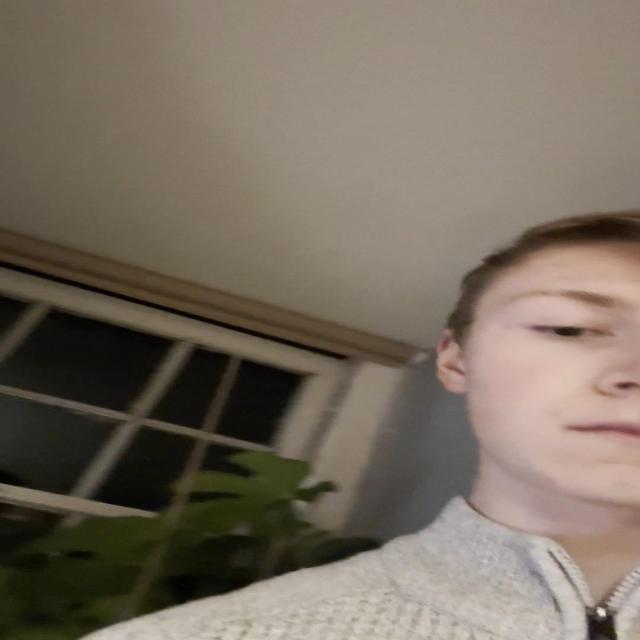no-helmet: (454, 236, 640, 509)
